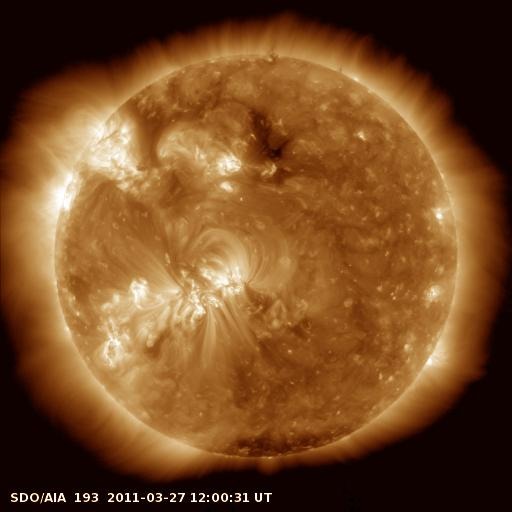coronal_hole: (218, 423, 356, 461), (242, 103, 291, 172)
